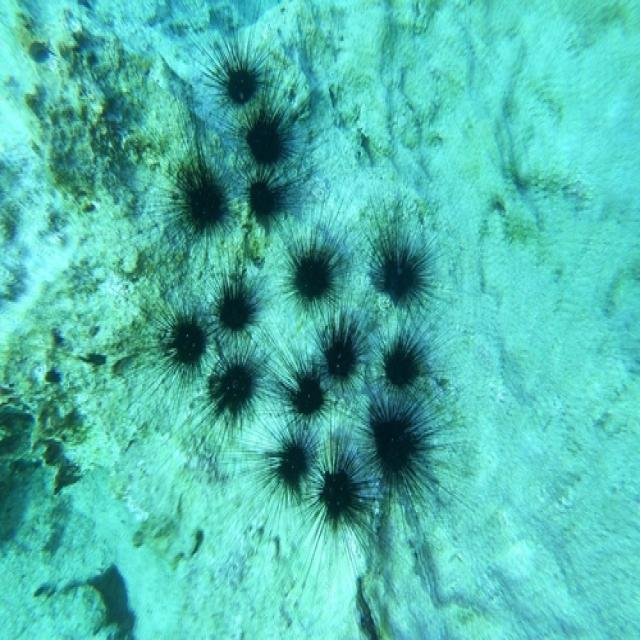Urchin: (291, 420, 416, 578), (120, 114, 236, 244), (347, 387, 456, 512), (120, 261, 217, 401), (354, 186, 443, 314), (183, 5, 288, 108), (185, 331, 272, 449), (241, 401, 325, 519), (269, 200, 347, 316), (364, 302, 451, 403), (252, 329, 342, 425), (218, 82, 308, 165), (304, 295, 378, 391), (198, 241, 268, 336), (224, 157, 315, 229)
